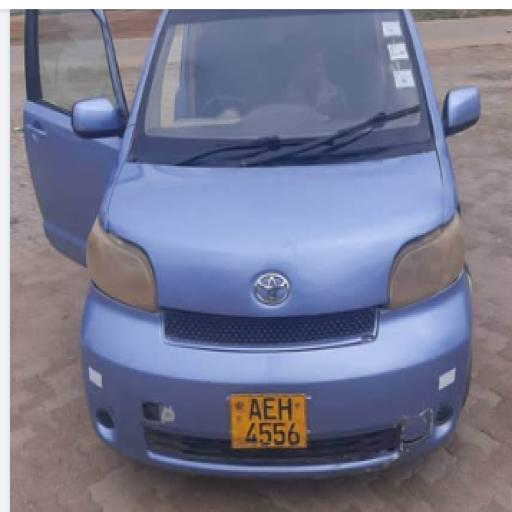number-plates: (232, 391, 303, 451)
